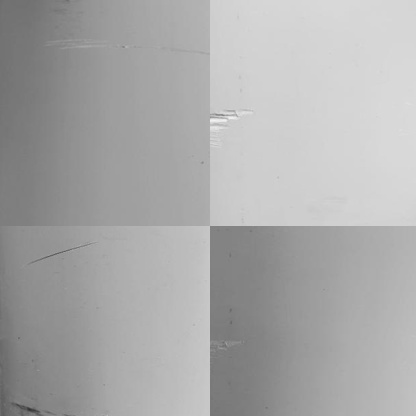sunshang: (209, 107, 259, 148), (31, 240, 95, 264), (213, 337, 244, 361)
